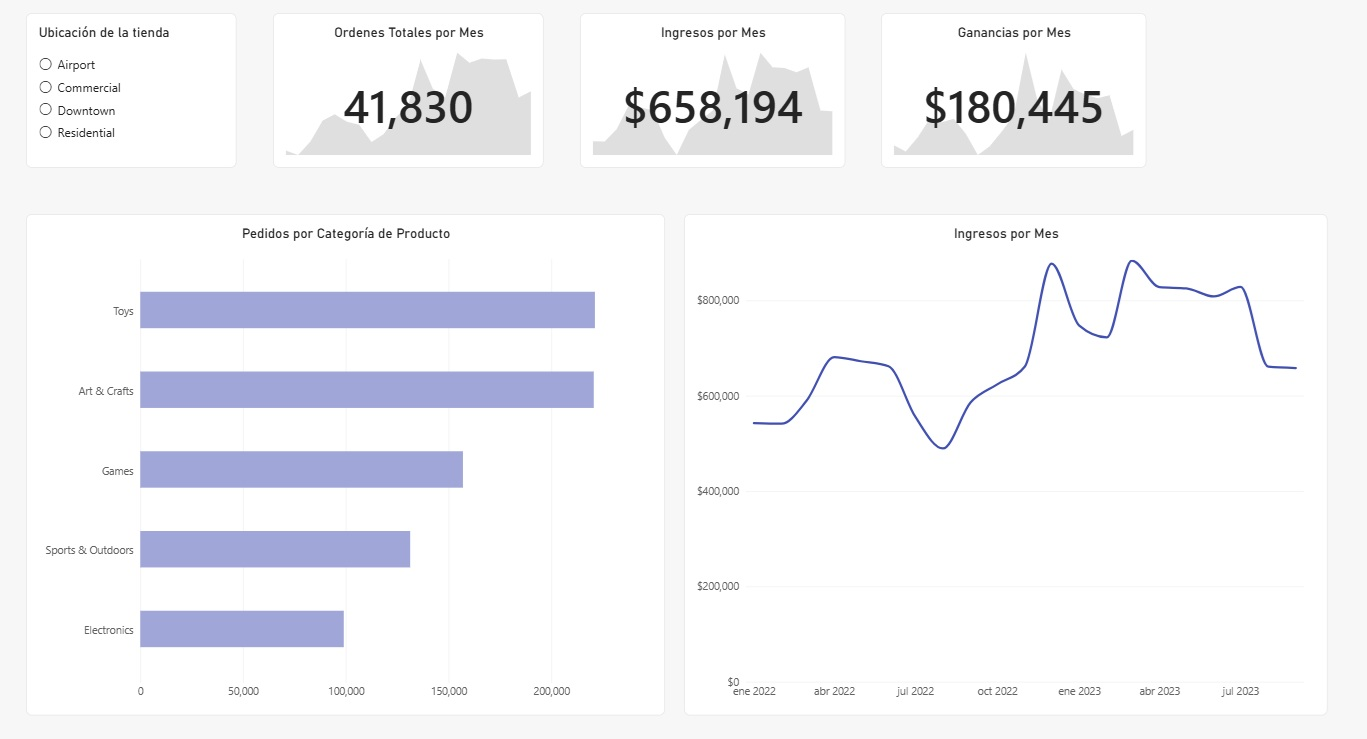

The page's visual inventory and layout, read from the dashboard file:
{"tool":"powerbi","page":{"name":"Página 1","canvas":[1920,1080],"ordinal":0},"visuals":[{"type":"kpi","title":"Ordenes Totales por Mes","fields":{"Indicator":["sales.Total Orders"],"TrendLine":["calendar.Inicio del mes"]},"box":[413.8,38.6,360,205.7],"z":0},{"type":"kpi","title":"Ingresos por Mes","fields":{"Indicator":["sales.Revenue (M)"],"TrendLine":["calendar.Inicio del mes"]},"box":[821.9,38.6,352.9,205.7],"z":1000},{"type":"kpi","title":"Ganancias por Mes","fields":{"Indicator":["sales.Profit (M)"],"TrendLine":["calendar.Inicio del mes"]},"box":[1222.9,38.6,352.9,205.7],"z":2000},{"type":"listSlicer","title":"Ubicación de la tienda","fields":{"Values":["stores.Store_Location"]},"box":[85.7,38.6,280,205.7],"z":3000},{"type":"clusteredBarChart","title":"Pedidos por Categoría de Producto","fields":{"Category":["products.Product_Category"],"Y":["sales.Total Orders"]},"box":[85.7,305.7,850,667.1],"z":4000},{"type":"lineChart","title":"Ingresos por Mes","fields":{"Category":["calendar.Inicio del mes Jerarquía.Inicio del mes","calendar.Inicio del mes Jerarquía.Inicio de la semana","calendar.Inicio del mes Jerarquía.Date"],"Y":["sales.Revenue (M)"]},"box":[960,305.7,855.7,667.1],"z":5000}]}

Visuals, with their boxes on the page's 1920x1080 design canvas (x1, y1, x2, y2). These are canvas units, not pixel positions in the 1367x739 screenshot, which may show the page scaled, cropped or inside an application window:
"Ordenes Totales por Mes" kpi: <box>414,39,774,244</box>
"Ingresos por Mes" kpi: <box>822,39,1175,244</box>
"Ganancias por Mes" kpi: <box>1223,39,1576,244</box>
"Ubicación de la tienda" listSlicer: <box>86,39,366,244</box>
"Pedidos por Categoría de Producto" clusteredBarChart: <box>86,306,936,973</box>
"Ingresos por Mes" lineChart: <box>960,306,1816,973</box>
